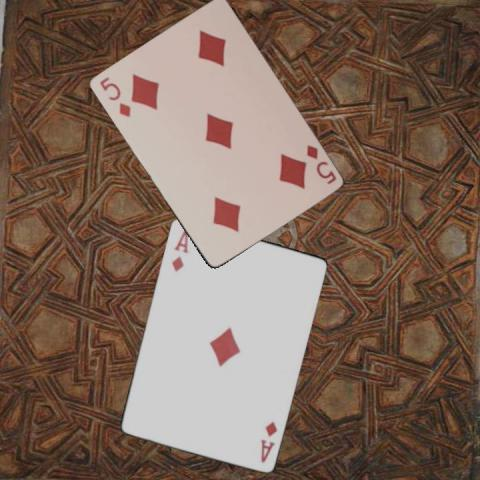5d: (96, 73, 132, 119), (303, 141, 337, 186)
Ad: (257, 418, 279, 464), (169, 225, 189, 273)
